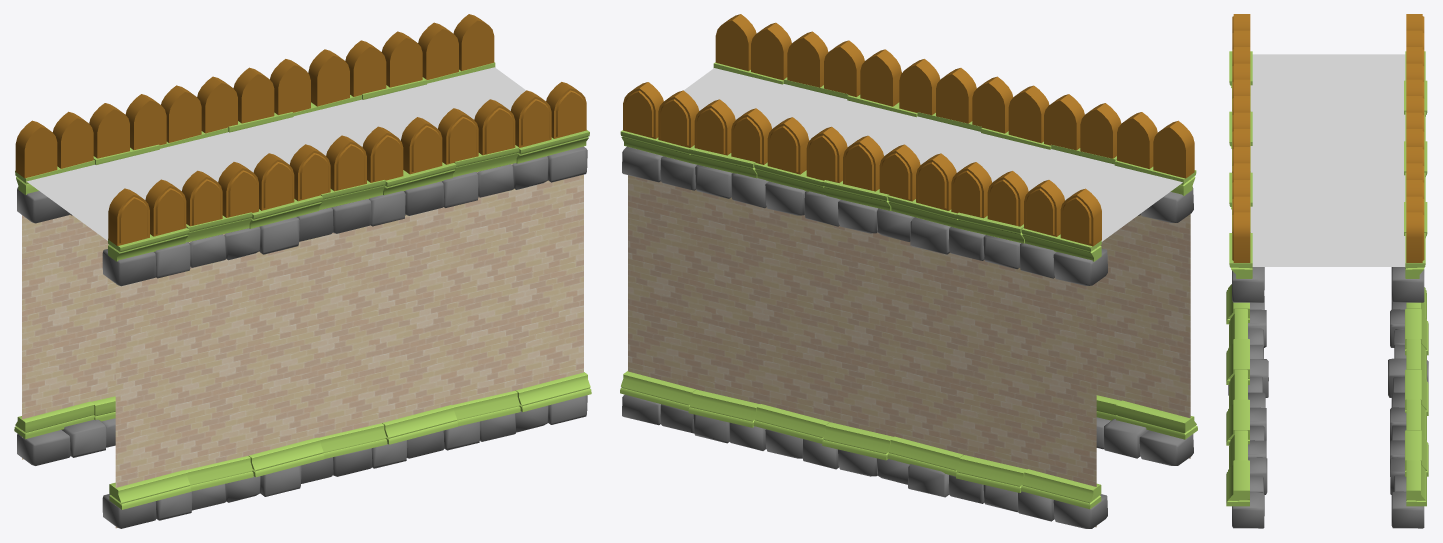
File: SM_wall_castle_01.fbx
3 views of the same model, side by side, from view 1: azimuth 30°, elevation 25°; view 2: azimuth 150°, elevation 25°; view 3: azimuth 270°, elevation 25° (orthographic). The views are drawn at different scales.
Visible parts, largest first — view 1: Box437; view 2: Box437; view 3: Box437.
Part boxes in pixels (bbox=[...]): Box437: bbox=[14, 14, 591, 528]; Box437: bbox=[620, 14, 1197, 528]; Box437: bbox=[1226, 14, 1428, 528].
Bounding box in the file's own units: 546 × 368 × 218.
